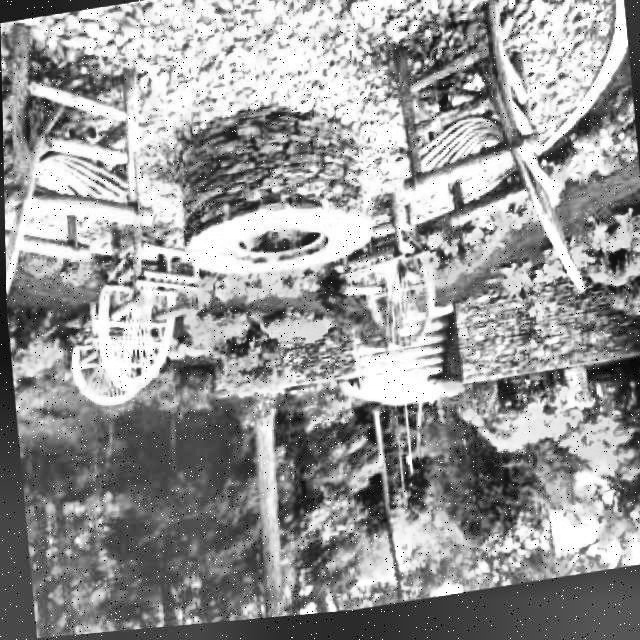Fire: (258, 221, 307, 288)
